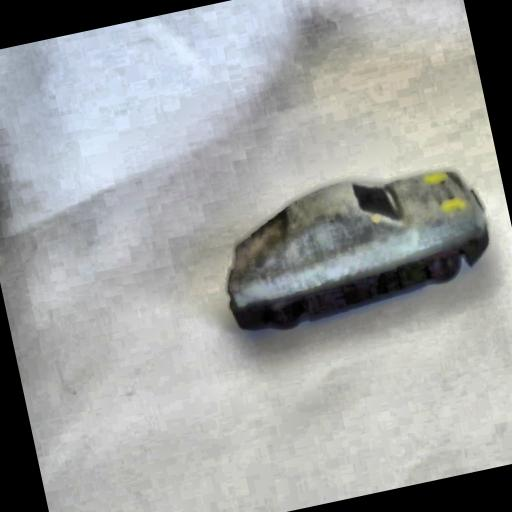normal_car: (203, 148, 502, 341)
